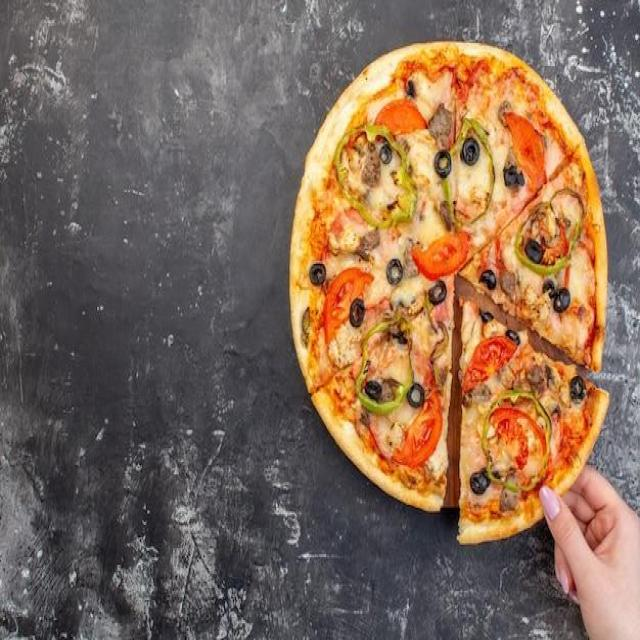olive: (434, 147, 451, 179), (504, 163, 524, 190), (348, 297, 365, 327), (462, 139, 480, 166), (407, 383, 425, 409), (427, 280, 446, 304), (387, 258, 402, 288), (526, 238, 543, 264), (308, 262, 326, 286), (478, 269, 496, 290), (555, 289, 570, 314), (571, 377, 586, 402), (364, 379, 381, 400), (469, 473, 486, 493), (378, 144, 394, 164), (393, 331, 408, 348), (506, 329, 521, 344), (405, 76, 415, 98), (480, 309, 493, 322), (544, 281, 556, 295), (481, 469, 490, 487), (546, 364, 556, 378), (495, 471, 502, 478)
pizza: (289, 41, 610, 516), (456, 298, 610, 545)
